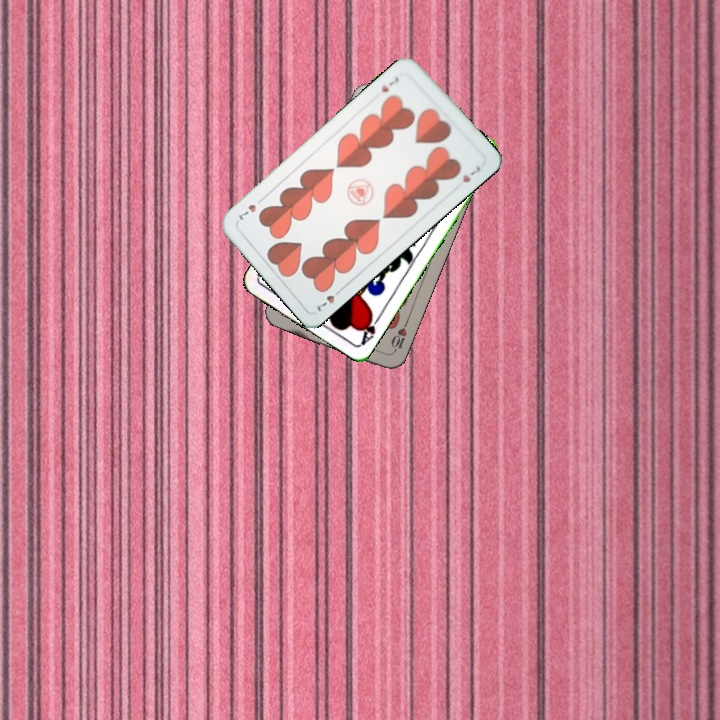H10: (387, 318, 410, 357)
H7: (313, 284, 345, 314), (377, 72, 402, 95)
HA: (357, 308, 385, 347)
